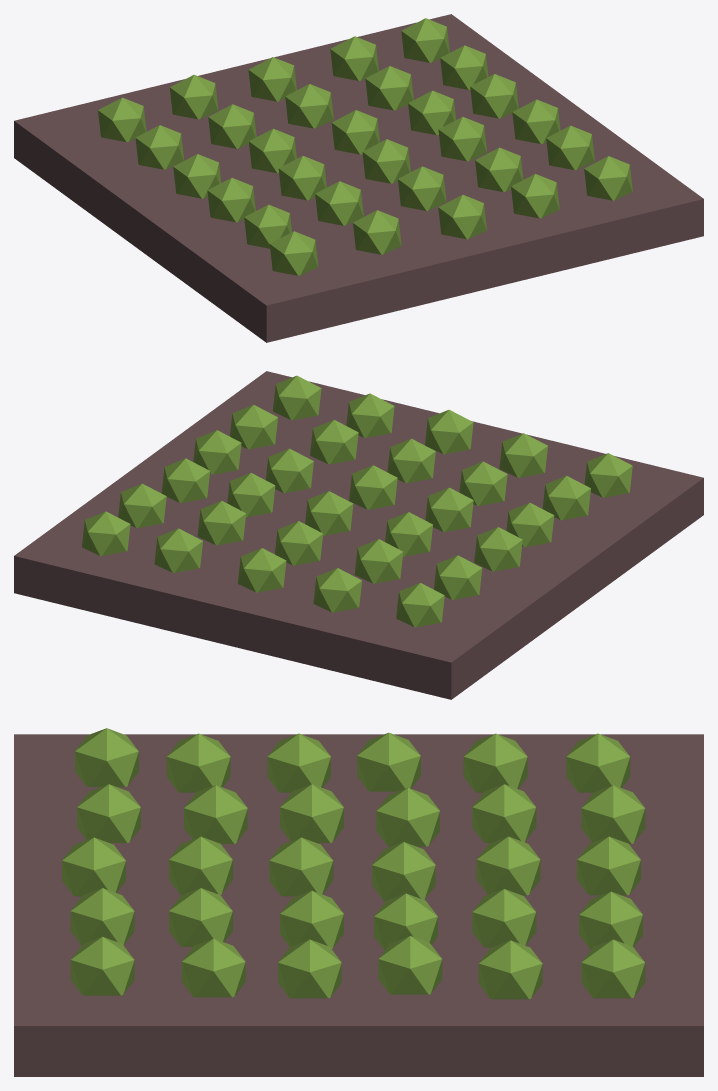
The model's file is field_ungrown.fbx.
The picture shows the model from 3 angles, top to bottom: view 1: azimuth 30°, elevation 25°; view 2: azimuth 150°, elevation 25°; view 3: azimuth 270°, elevation 25°; orthographic projection. The views are drawn at different scales.
Parts seen in each view (by area): view 1: base field ungrown.001; view 2: base field ungrown.001; view 3: base field ungrown.001.
Boxes of the visible parts, <box> form: base field ungrown.001: <box>14,14,703,342</box>; base field ungrown.001: <box>14,371,703,699</box>; base field ungrown.001: <box>14,728,703,1076</box>.
Bounding box in the file's own units: 100 × 100 × 15.71.
